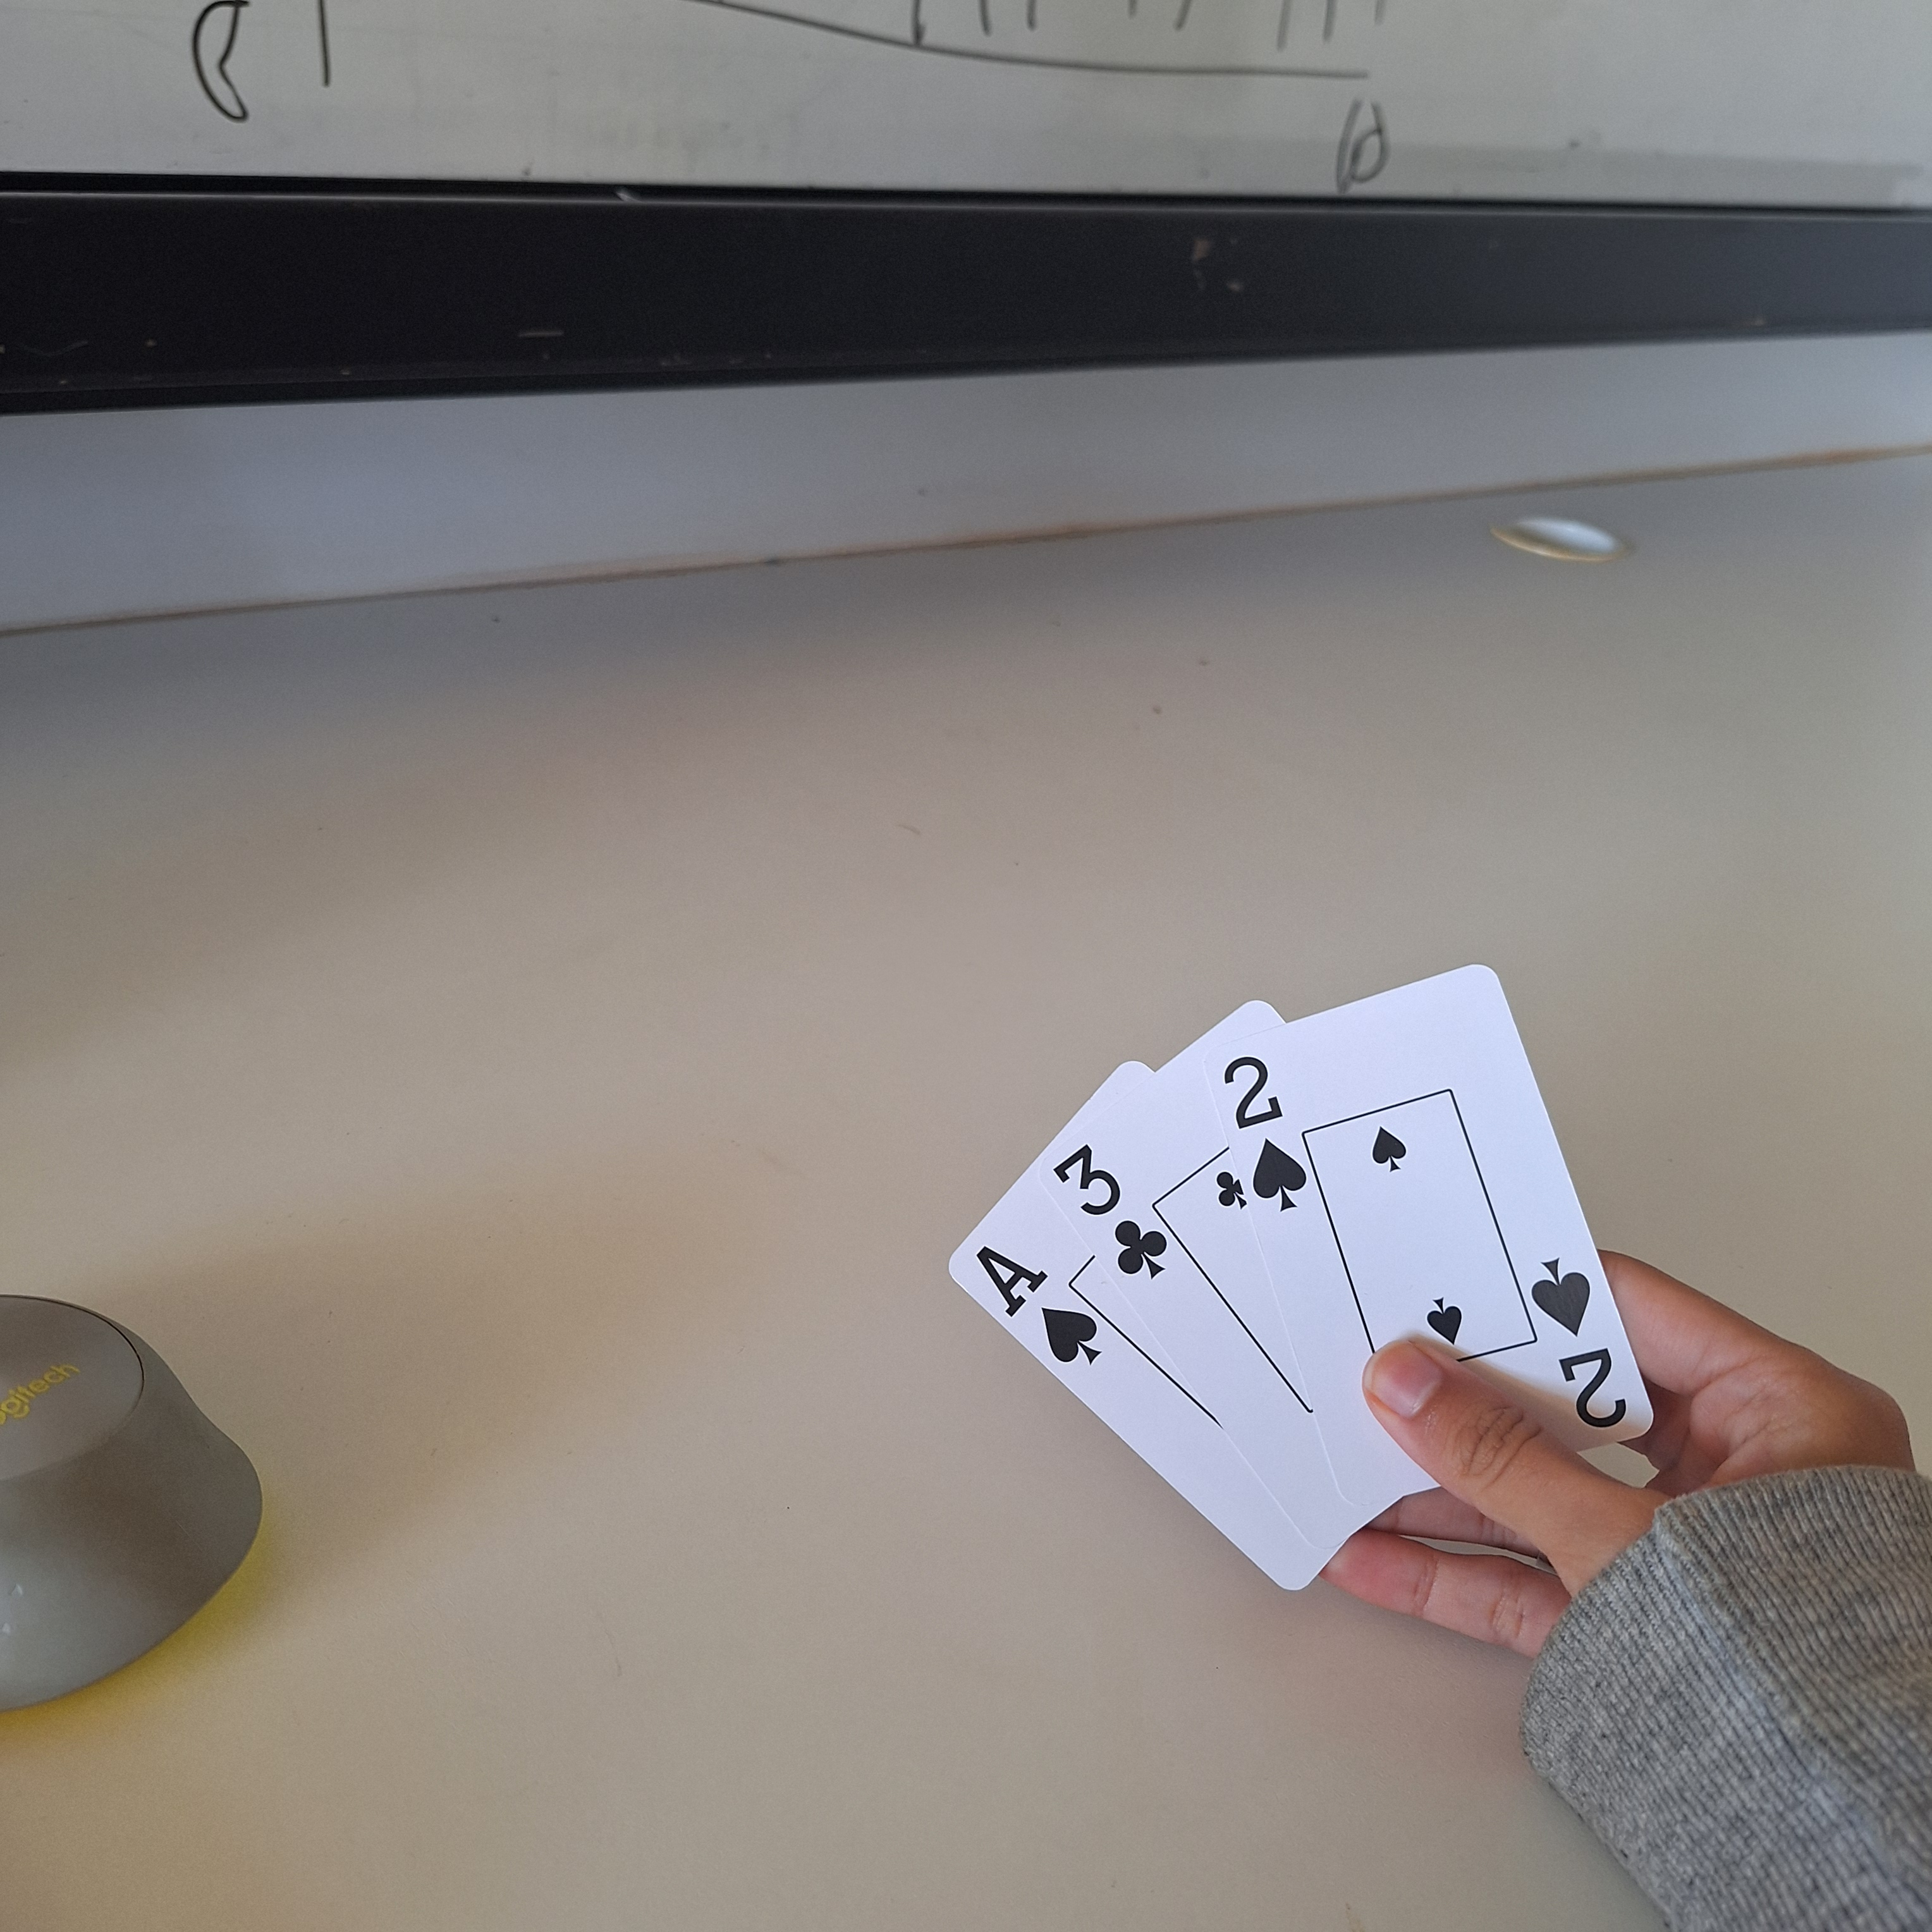2E: (1527, 1247, 1637, 1433), (1217, 1047, 1318, 1215)
3P: (1047, 1139, 1175, 1283)
AE: (962, 1235, 1106, 1378)
